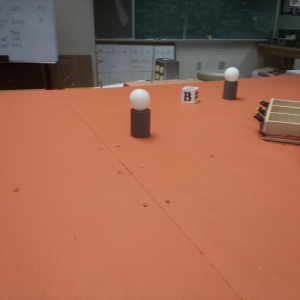blockB: (178, 85, 202, 104)
obstacle: (129, 87, 153, 139), (223, 66, 240, 102)
side: (254, 93, 300, 149)
